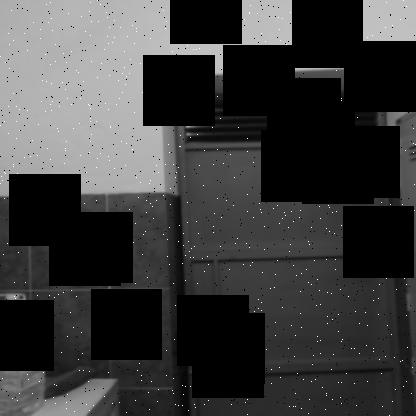Porte: (170, 87, 412, 416)
